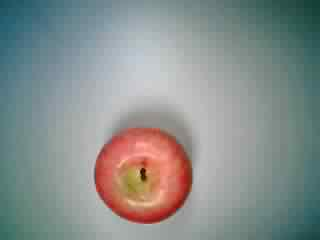apple: (93, 126, 191, 223)
